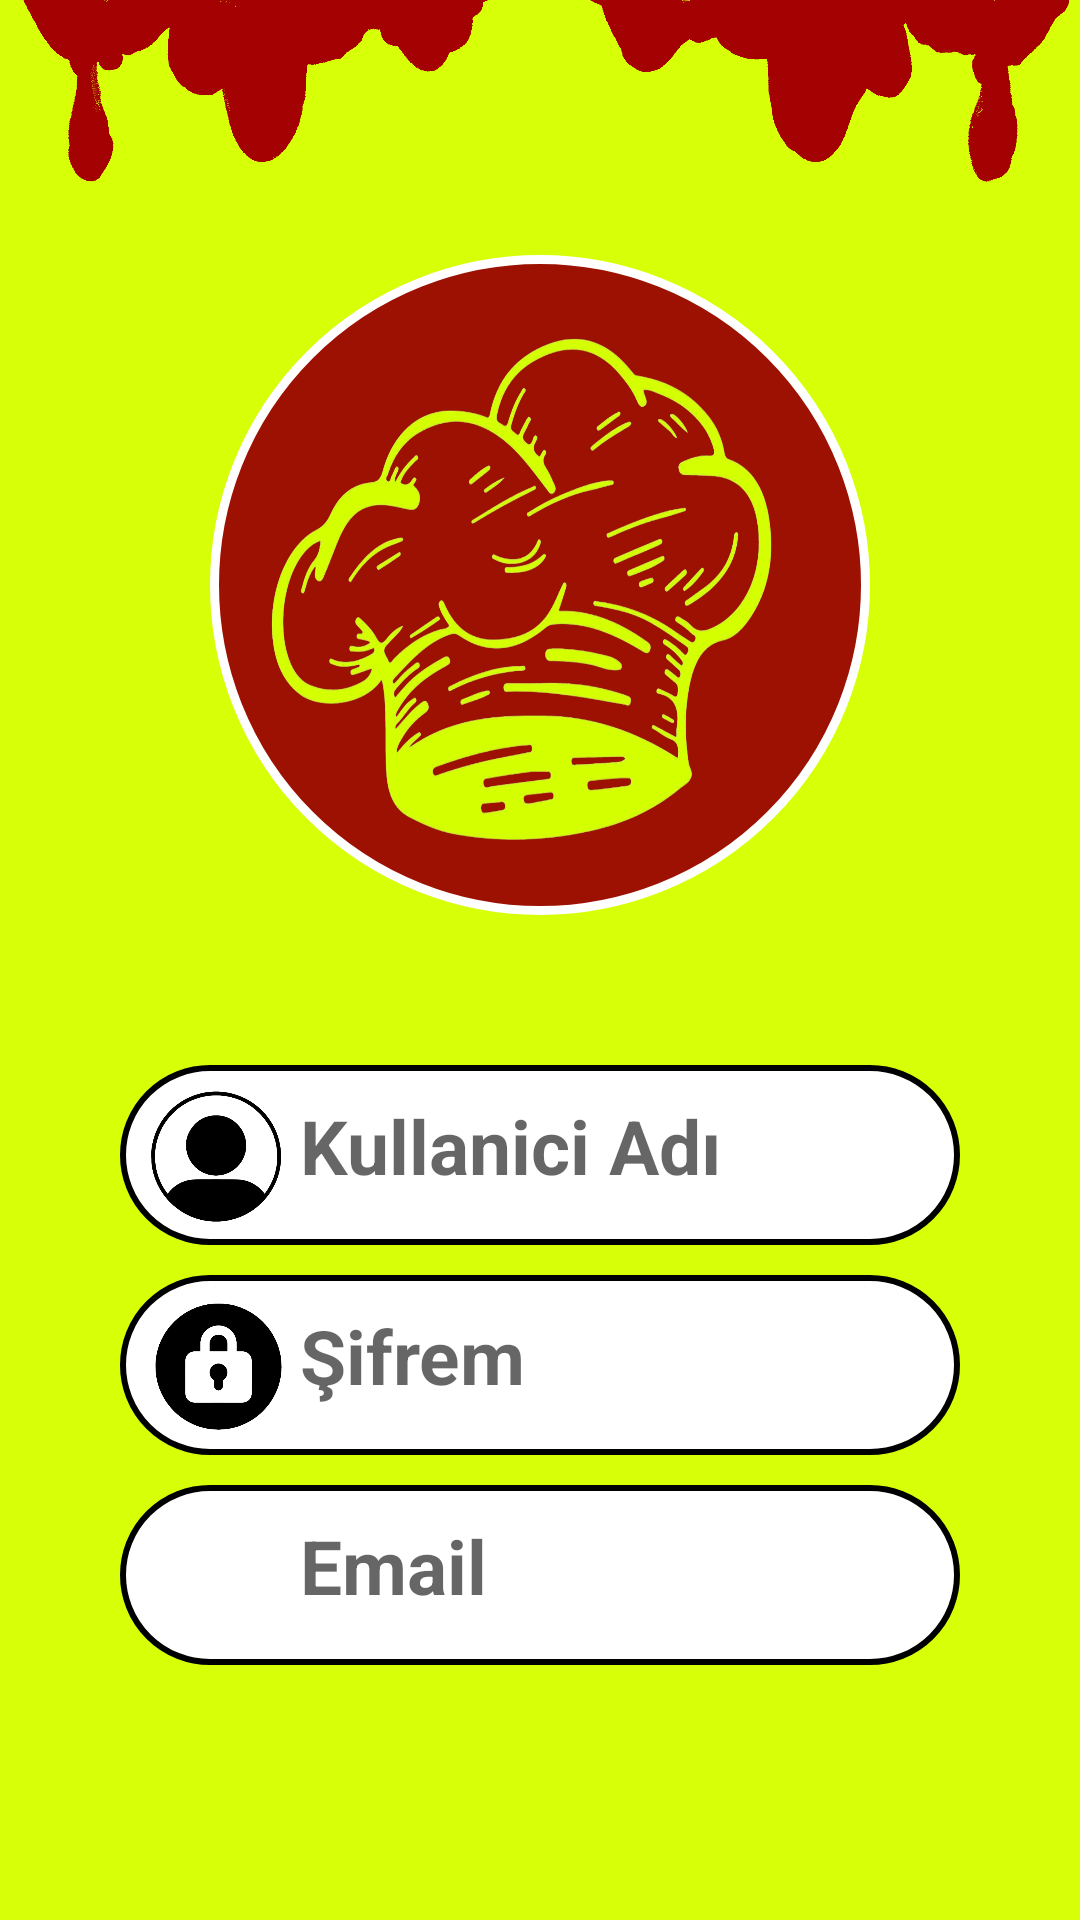

Icon click points for this 1080×1920 phone screenshot, format (x=x, y=y):
pasword: (x=218, y=1366)
person: (x=216, y=1156)
